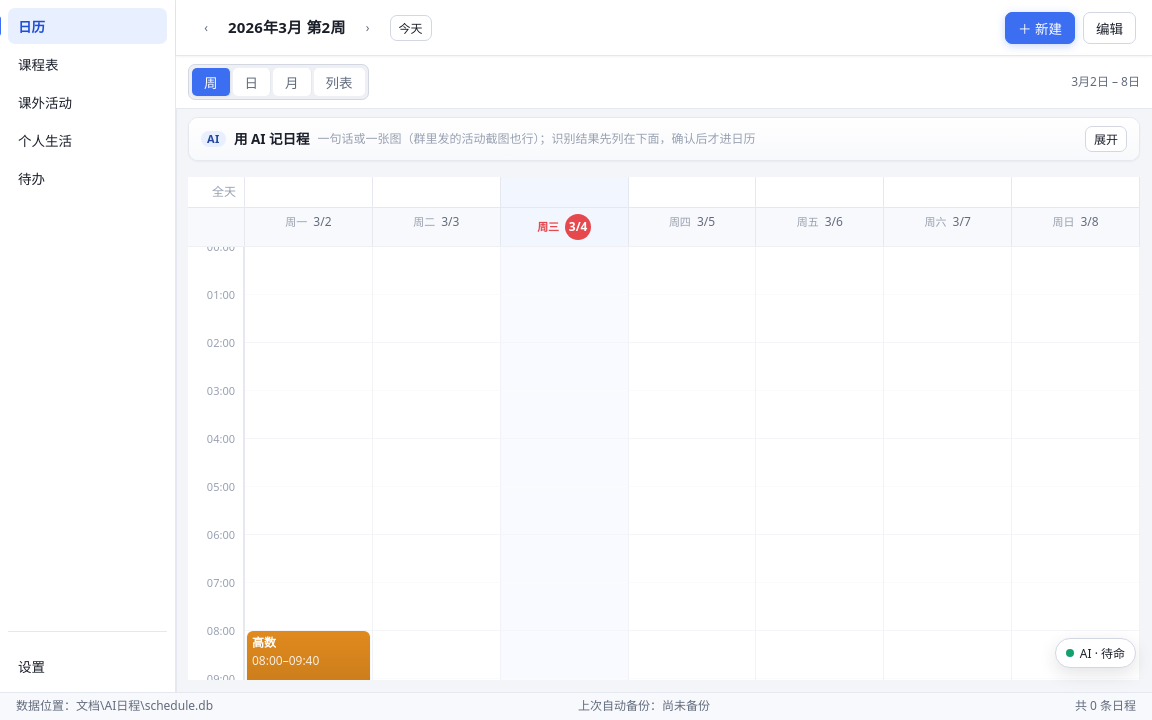
Test case: 日历页 · 详情与编辑 › 编辑态下可删除日程
This screenshot has width=1152, height=720.
Expected: the element with test id "week-allday" is shown, [188,177,1140,208]
Click the button "编辑" at (1110, 28), box [1083,12,1136,44]
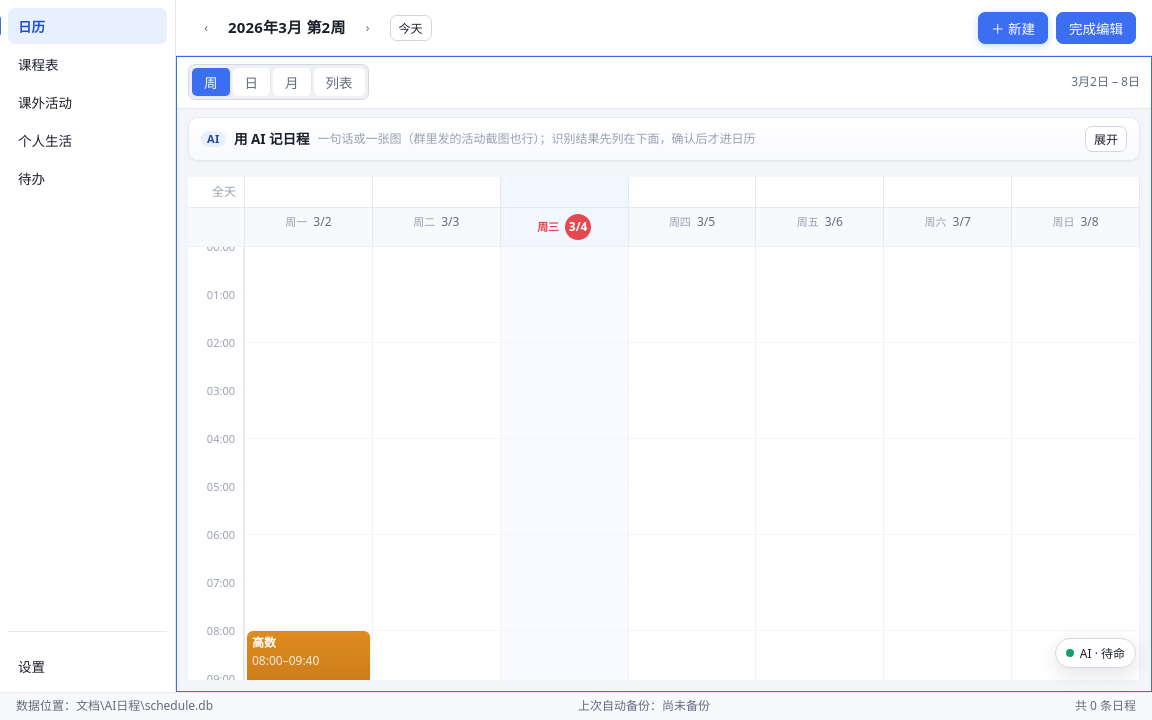
Double-click the button with test id "block-e1" at (308, 671), box [247,631,370,711]
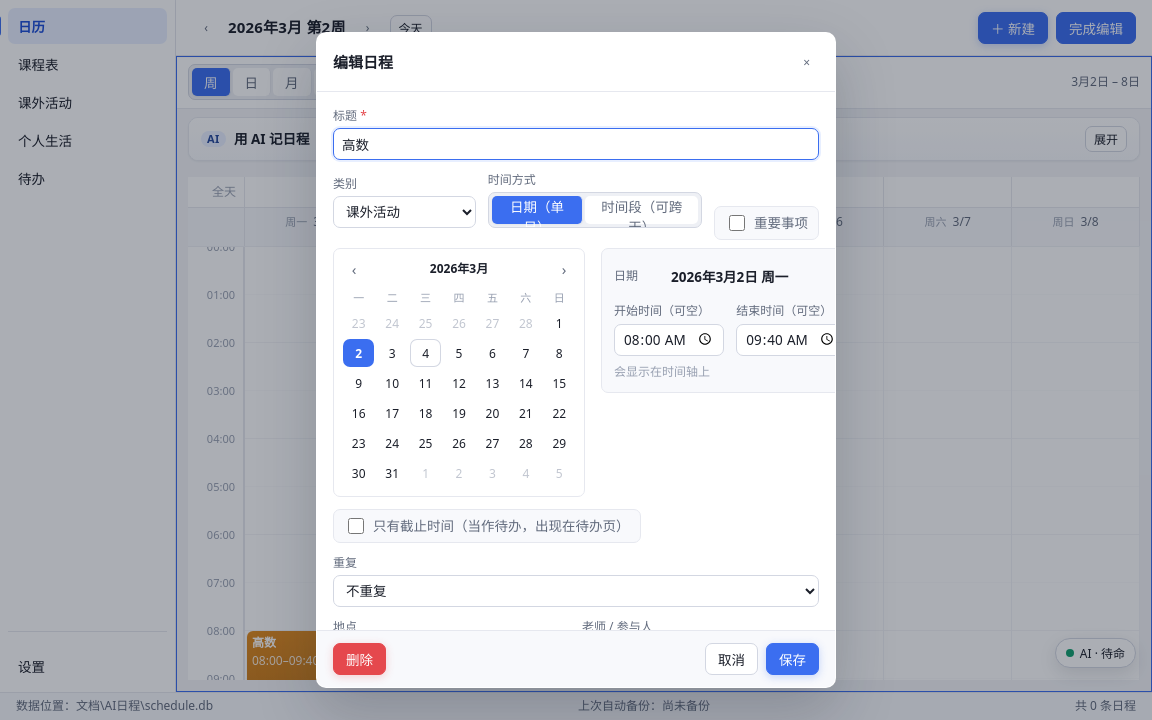
Click the button "删除" at (360, 659), box [333,643,386,675]
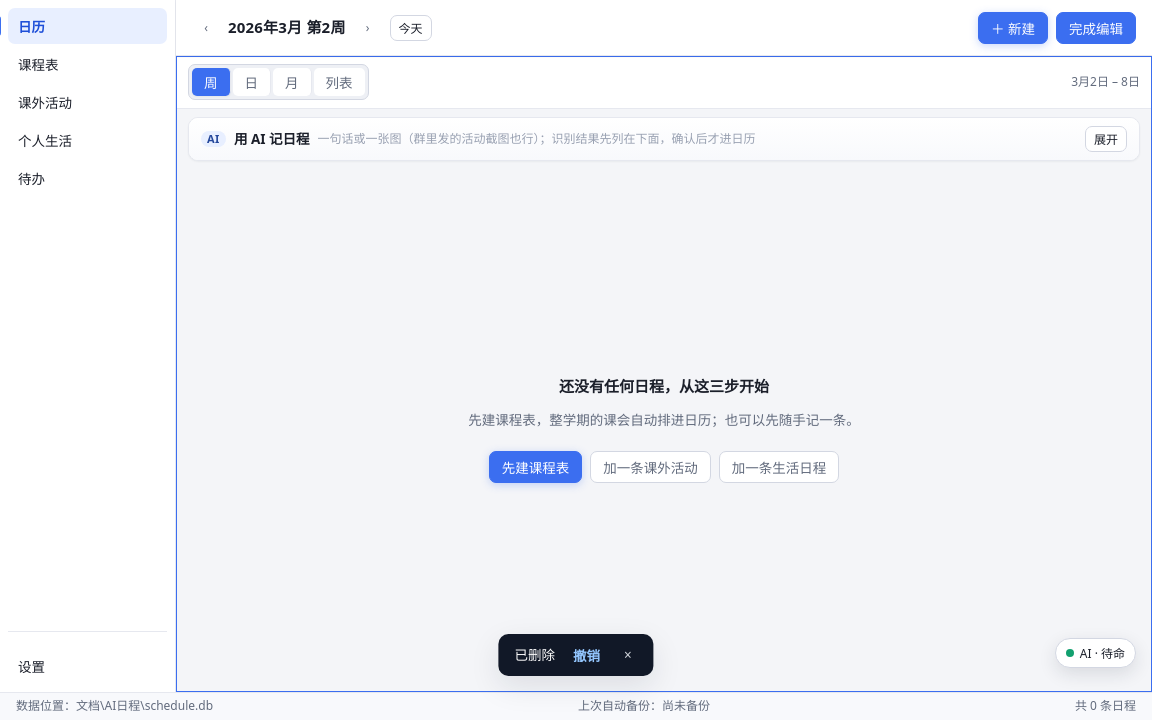
Now the text "已删除" is shown, box [514,646,555,664]
